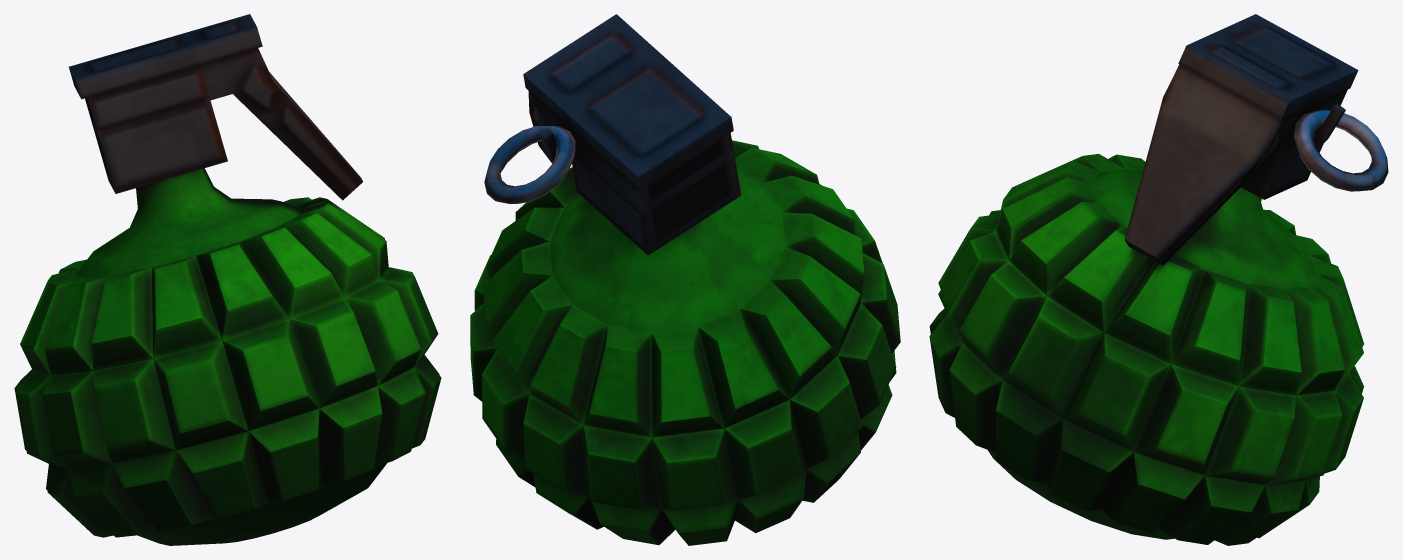
Rendered from nade.glb.
3 renders of one model, left to right at view 1: azimuth 30°, elevation 25°; view 2: azimuth 150°, elevation 25°; view 3: azimuth 270°, elevation 25°, orthographic. The views are drawn at different scales.
Visible parts, largest first — view 1: nadevariant_low_2, nadevarianthaut_low_0; view 2: nadevariant_low_2, nadevarianthaut_low_0, nadevarianthaut_low.001_1; view 3: nadevariant_low_2, nadevarianthaut_low_0, nadevarianthaut_low.001_1.
Boxes of the visible parts, x1,y1,x2,y2 form: nadevariant_low_2: [14, 168, 441, 545]; nadevarianthaut_low_0: [69, 14, 362, 200]; nadevariant_low_2: [470, 140, 900, 545]; nadevarianthaut_low_0: [523, 14, 741, 255]; nadevarianthaut_low.001_1: [484, 125, 575, 203]; nadevariant_low_2: [929, 153, 1363, 545]; nadevarianthaut_low_0: [1124, 14, 1358, 265]; nadevarianthaut_low.001_1: [1294, 110, 1388, 191].
Bounding box in the file's own units: 0.1221 × 0.1519 × 0.1271.
Materials: 1 (1 with a texture image).
